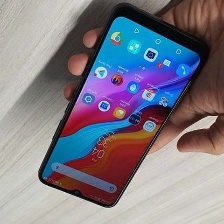phone: (33, 0, 214, 210)
